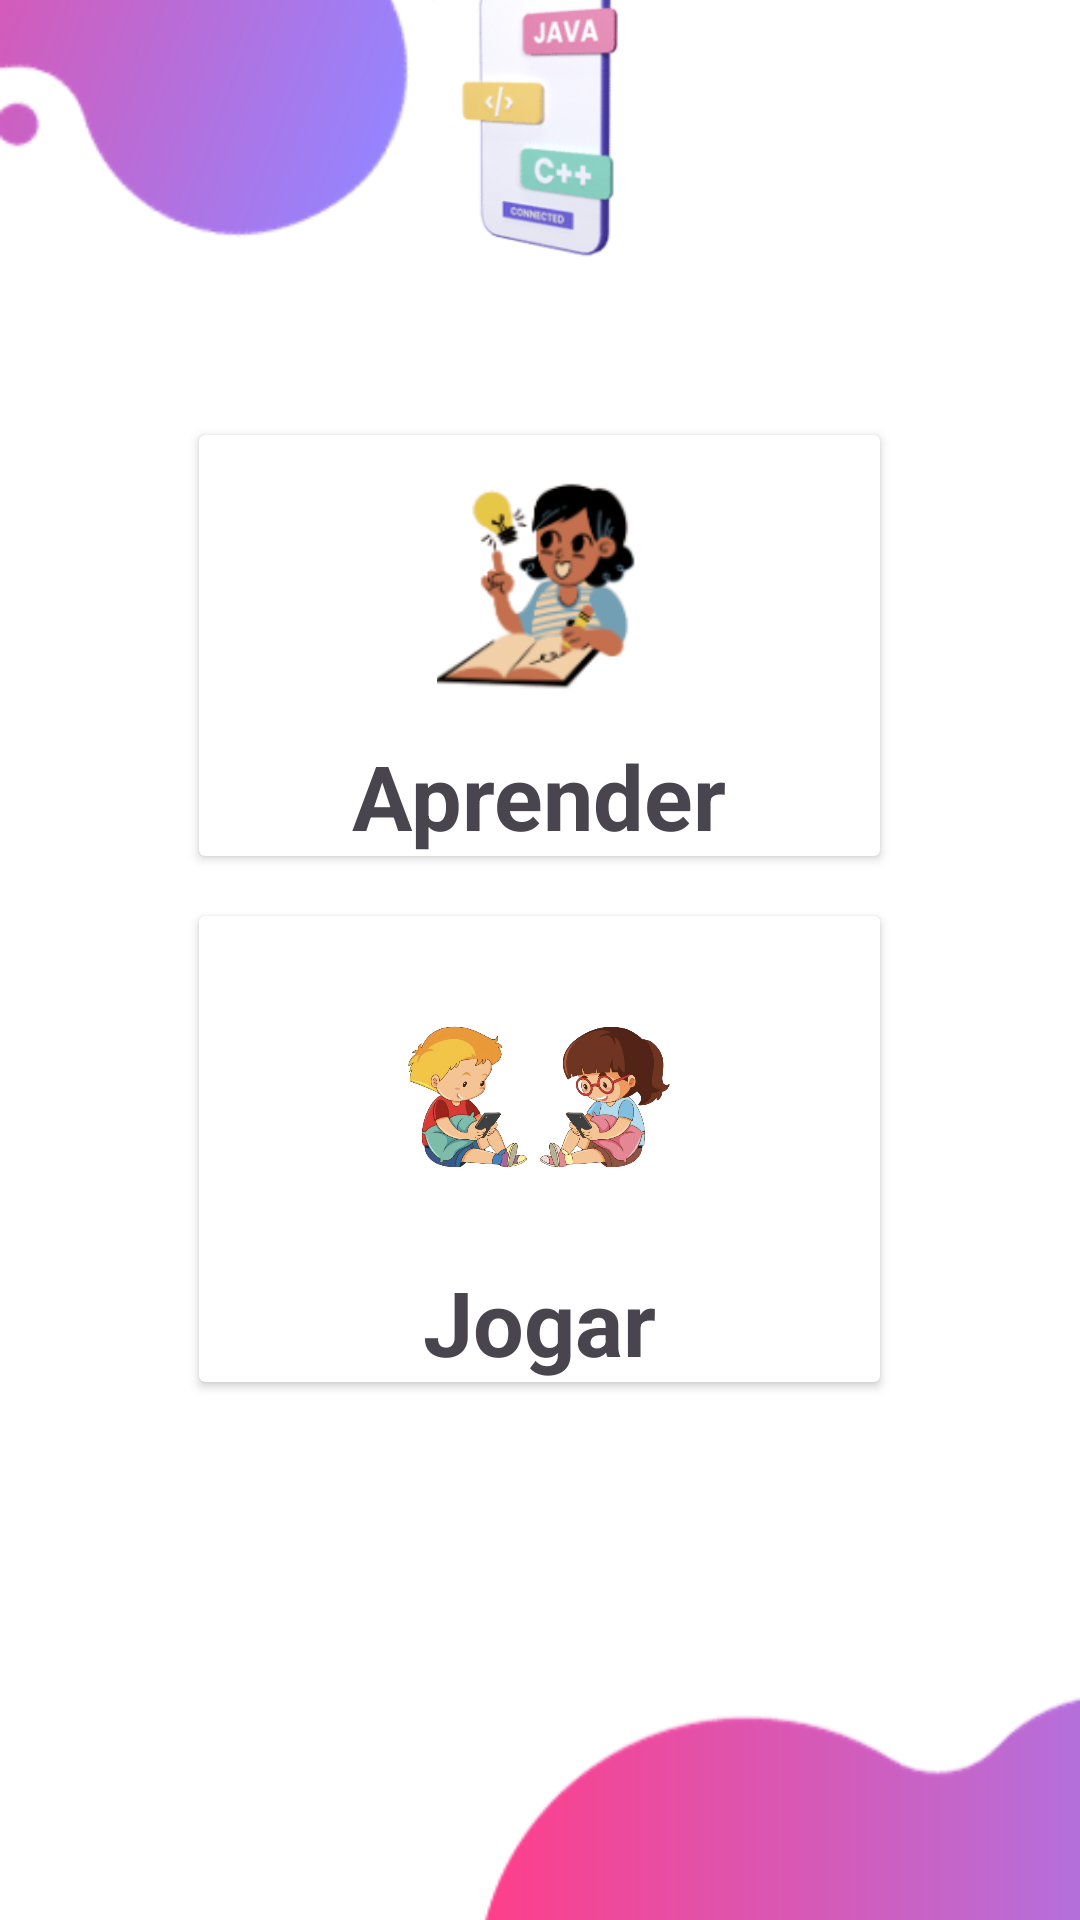

Point at icon controls on the screen. Image size 1080×1920, points as point (x, y).
criancas: point (539, 1096)
